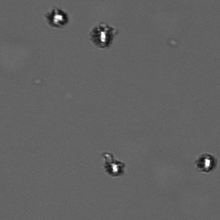Living Cell: (90, 24, 114, 48), (104, 155, 126, 178), (45, 8, 70, 28), (195, 153, 216, 173)
